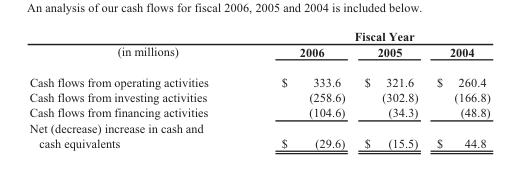table: (28, 29, 489, 150)
table column: (28, 29, 244, 150), (244, 29, 354, 150), (354, 29, 426, 150), (426, 29, 489, 150)
table column header: (28, 29, 489, 66)
table projected row header: (28, 119, 489, 134)
table row: (28, 43, 489, 66), (28, 66, 489, 89), (28, 134, 489, 150), (28, 89, 489, 104), (28, 104, 489, 119), (28, 119, 489, 134), (28, 29, 489, 43)
table spanning cell: (28, 29, 244, 66), (244, 29, 489, 43)
